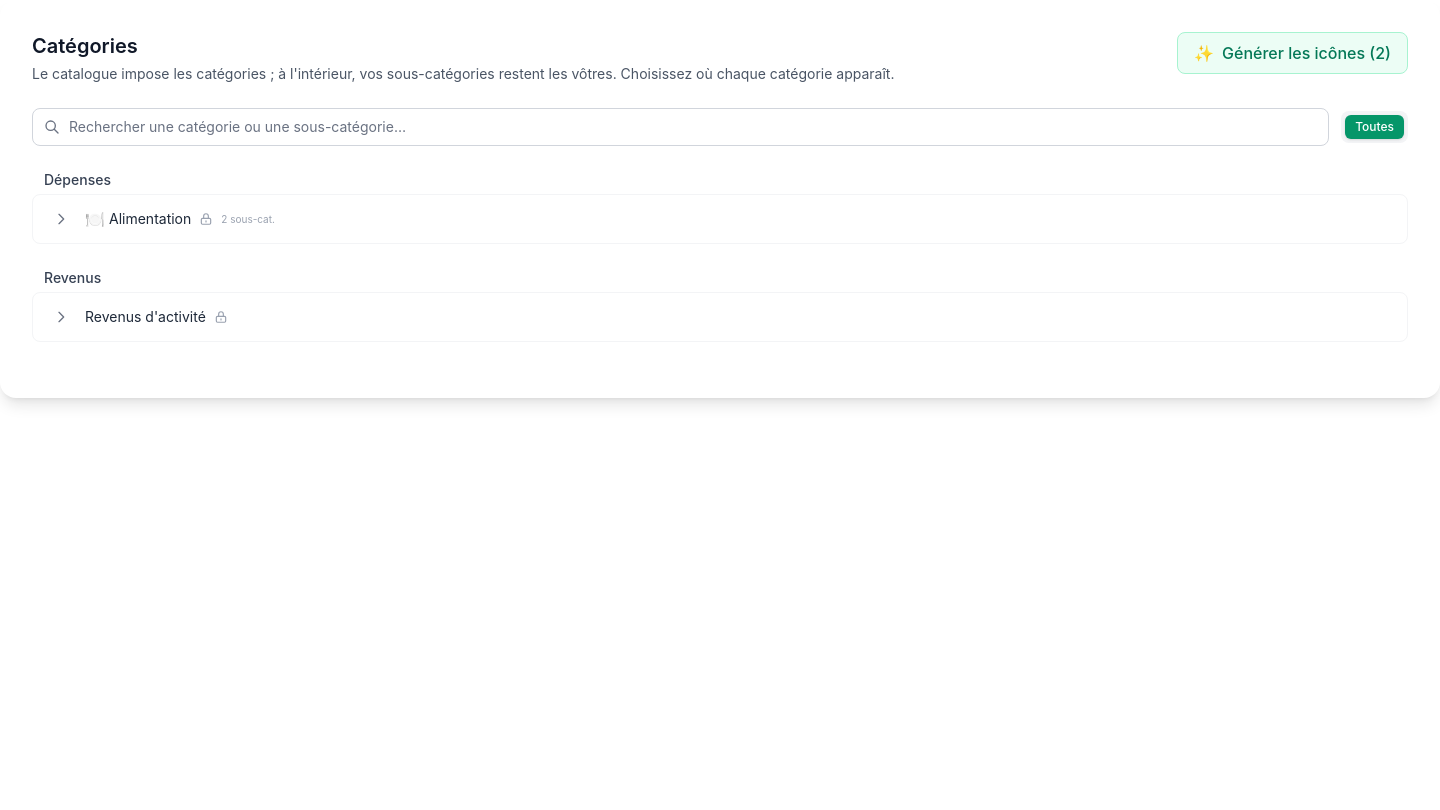
Test: CategoriesSettingsPage › deletes a custom subcategory after confirmation, and says where the rows went
Click the button named "Déplier Alimentation" at (61, 219), box 45,203 -> 77,235
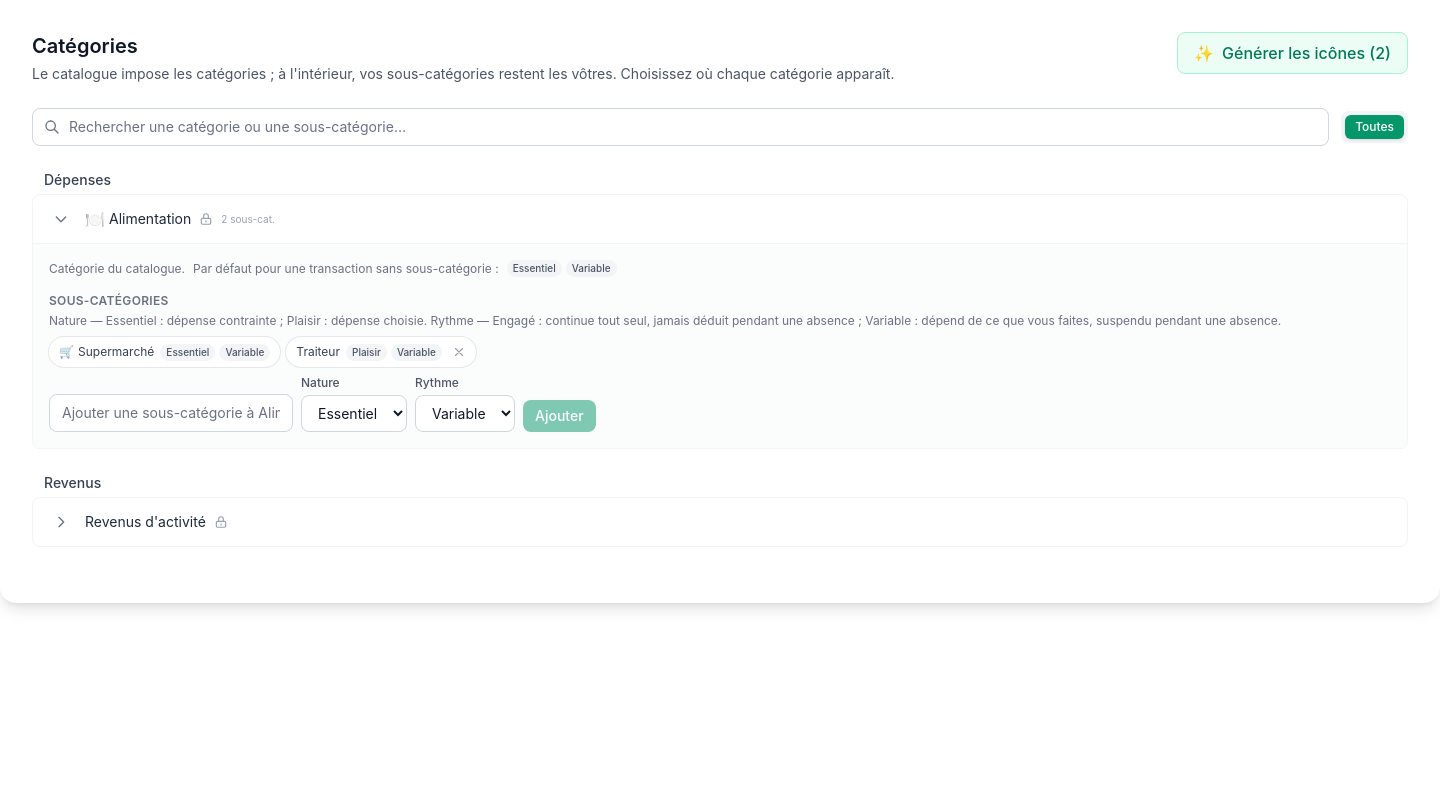
Click the button with test id "delete-subcategory-sub-custom" at (459, 352), box 448,341 -> 470,363
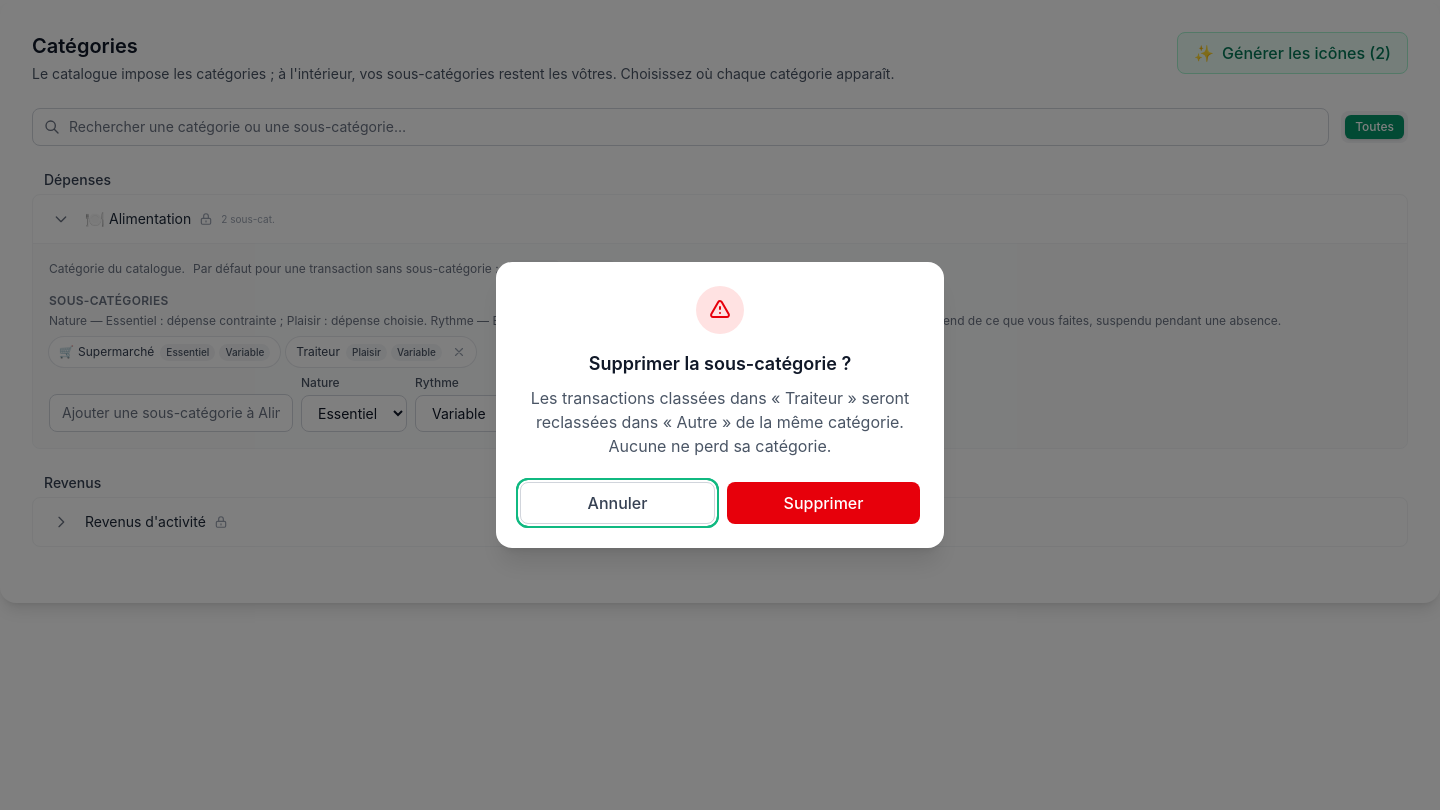
Check: the button "Supprimer" is shown
Click the button "Supprimer" at (824, 503), box 727,482 -> 920,524
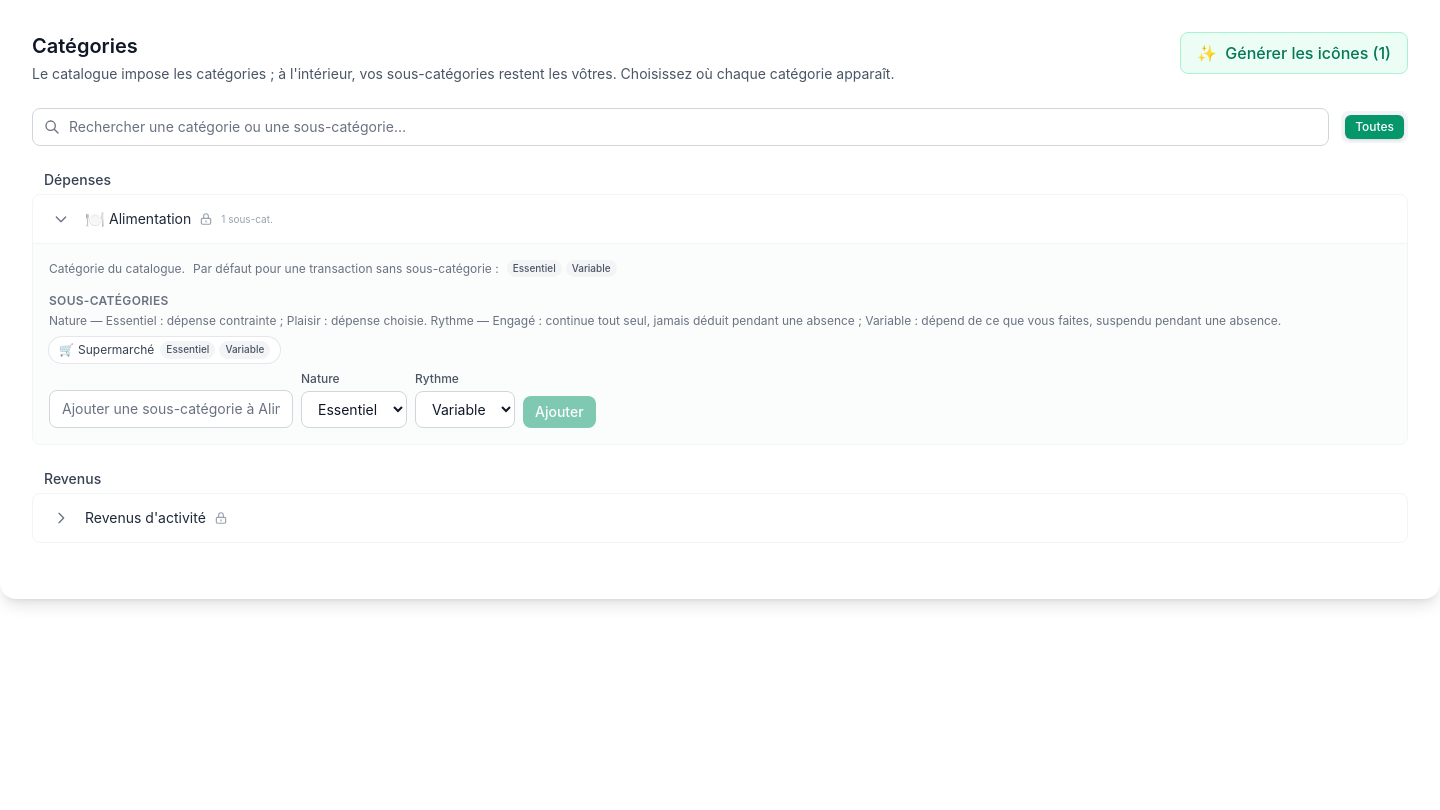
Check: the text "Traiteur" is gone
